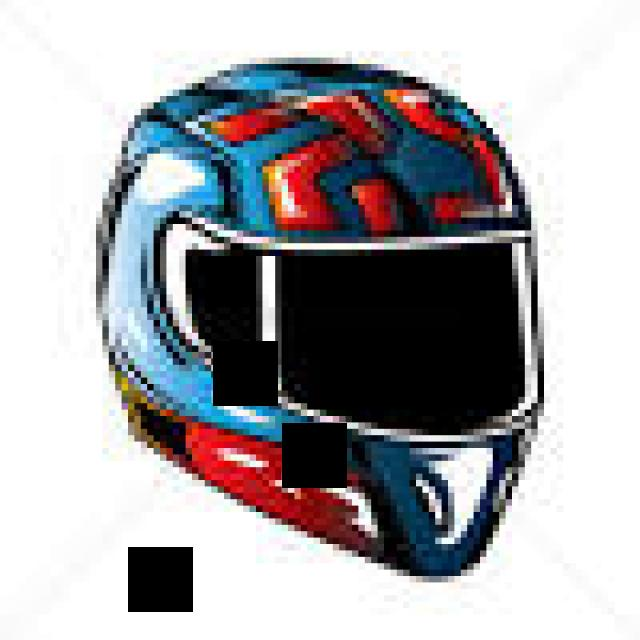Helmet: (78, 45, 550, 580)
